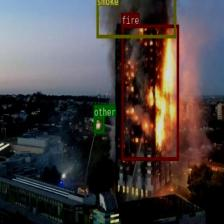fire: (121, 24, 178, 160)
smoke: (95, 0, 175, 37)
